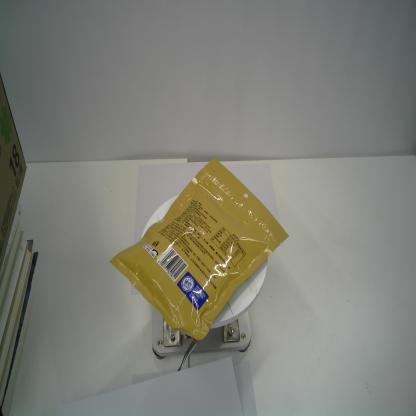Dried Fruit: (108, 157, 288, 342)
